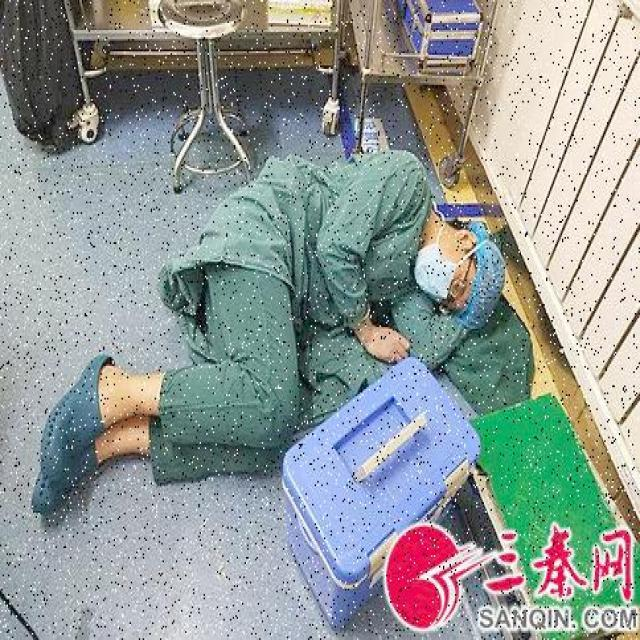fall: (35, 160, 502, 512)
